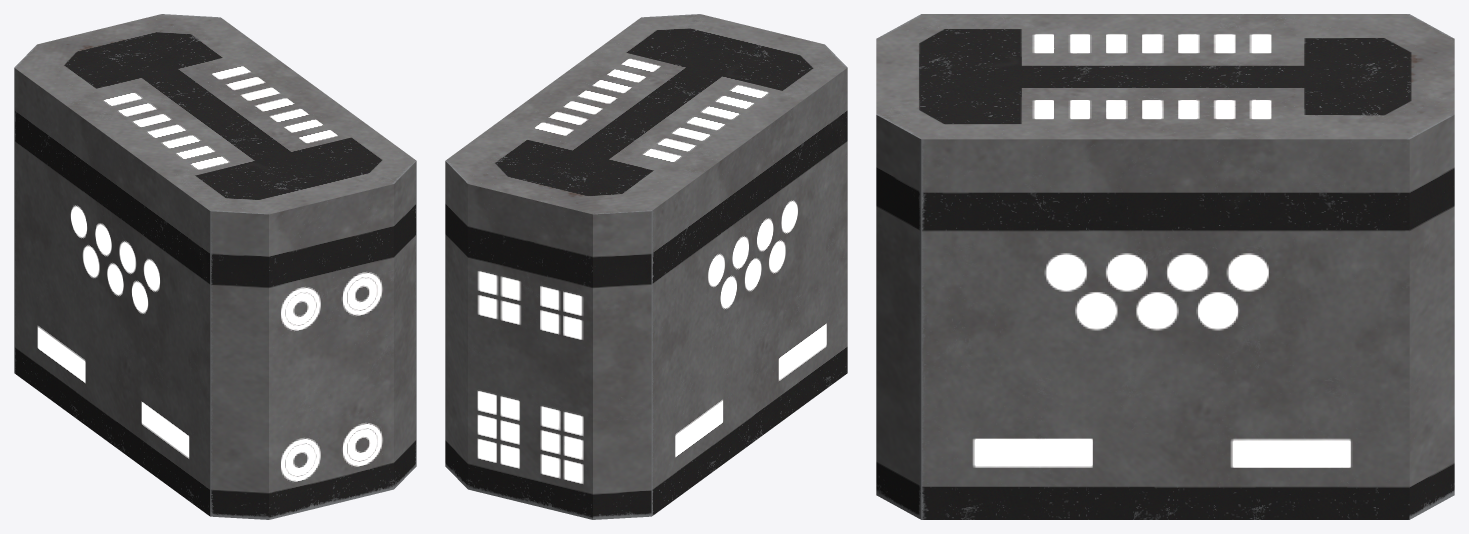
The model's file is tower_m_2.fbx.
3 views of the same model, side by side, from view 1: azimuth 30°, elevation 25°; view 2: azimuth 150°, elevation 25°; view 3: azimuth 270°, elevation 25° (orthographic). The views are drawn at different scales.
Visible parts, largest first — view 1: tower_m_2; view 2: tower_m_2; view 3: tower_m_2.
Part boxes in pixels (bbox=[...]): tower_m_2: bbox=[14, 14, 416, 519]; tower_m_2: bbox=[445, 14, 847, 519]; tower_m_2: bbox=[876, 14, 1454, 519].
Size of the model in its own units: 6.93 by 9.8 by 13.5.
